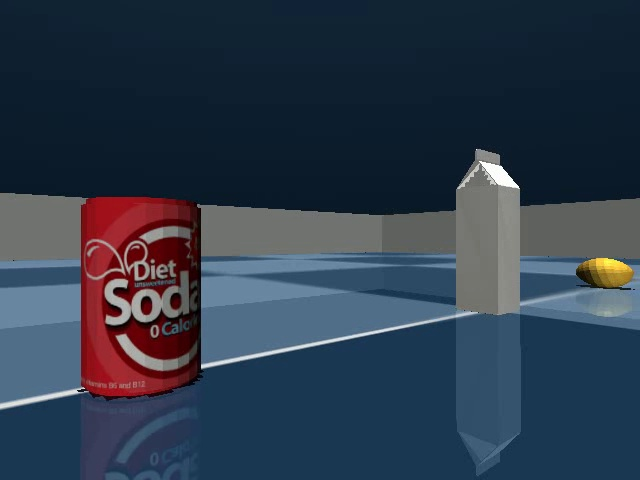can: (70, 187, 217, 410)
lemon: (570, 251, 638, 296)
milk: (448, 140, 531, 330)
